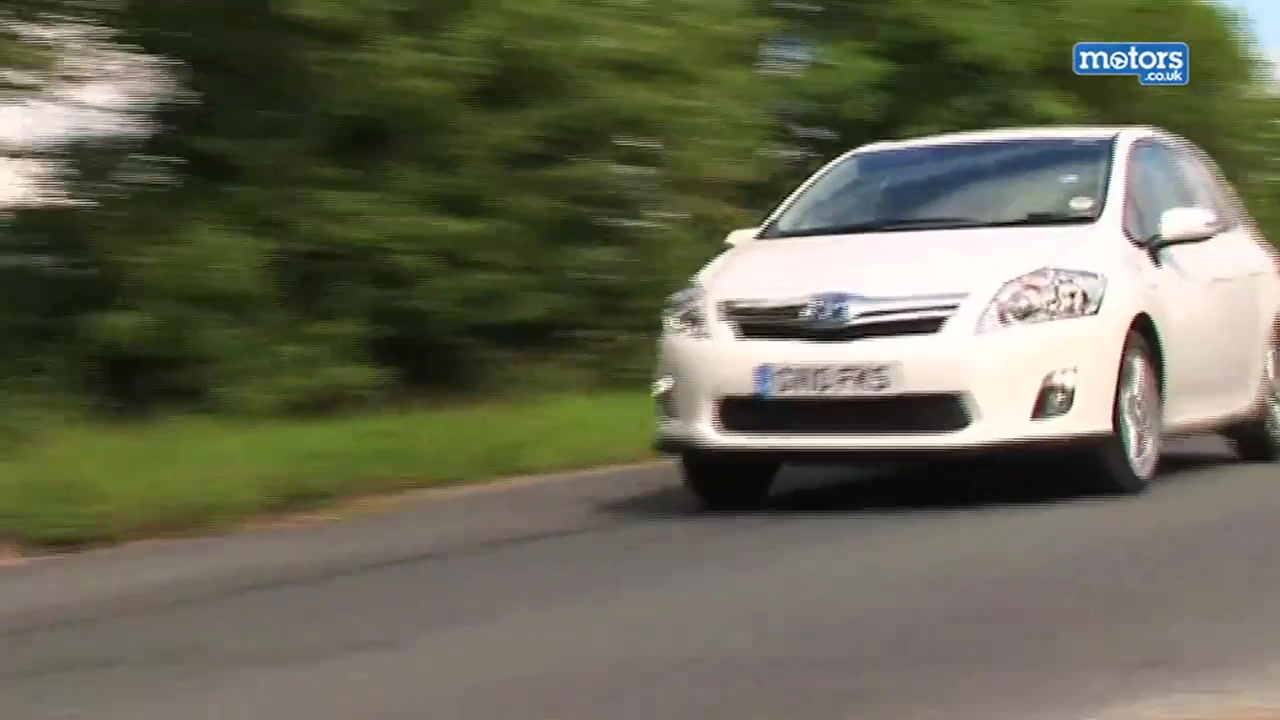car: (643, 124, 1280, 495)
